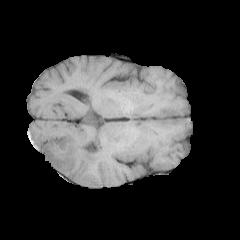glioma: (41, 129, 98, 171)
